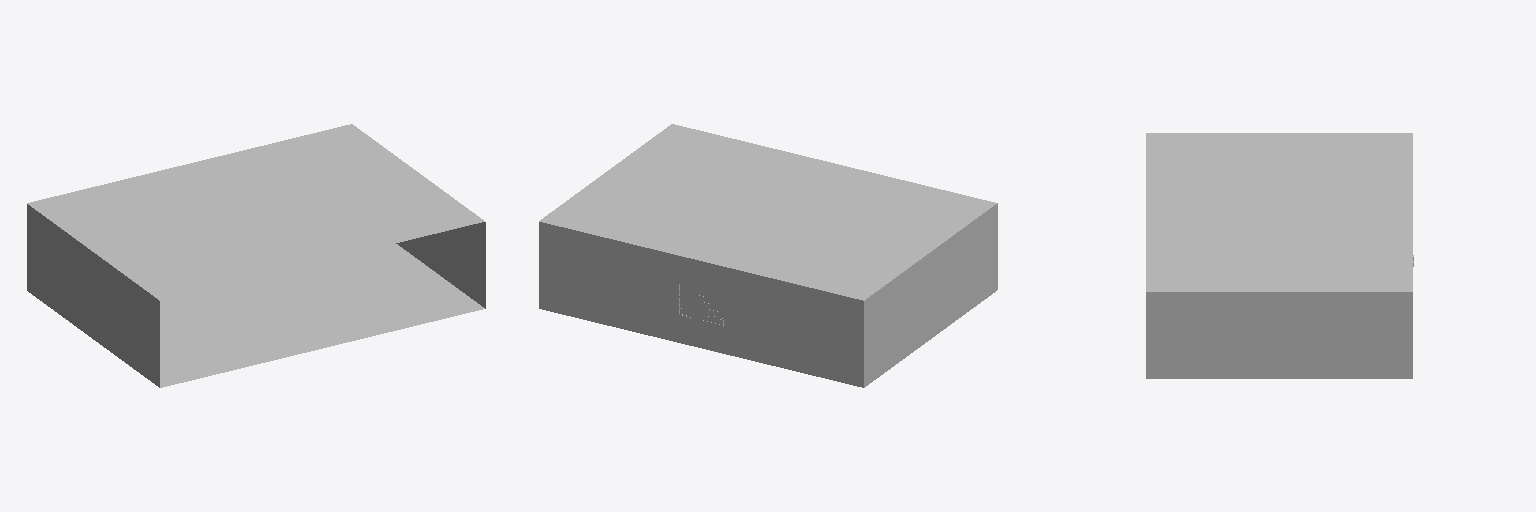
Rendered from Bed.obj.
3 renders of one model, left to right at view 1: azimuth 30°, elevation 25°; view 2: azimuth 150°, elevation 25°; view 3: azimuth 270°, elevation 25°, orthographic.
Visible parts, largest first — view 1: Cube.002_Cube.006; view 2: Cube.002_Cube.006, Window; view 3: Cube.002_Cube.006.
Boxes of the visible parts, x1,y1,x2,y2 form: Cube.002_Cube.006: [27, 124, 485, 387]; Cube.002_Cube.006: [539, 124, 997, 387]; Window: [679, 283, 723, 325]; Cube.002_Cube.006: [1146, 133, 1412, 378].
Bounding box in the file's own units: 78.05 × 20 × 55.49.